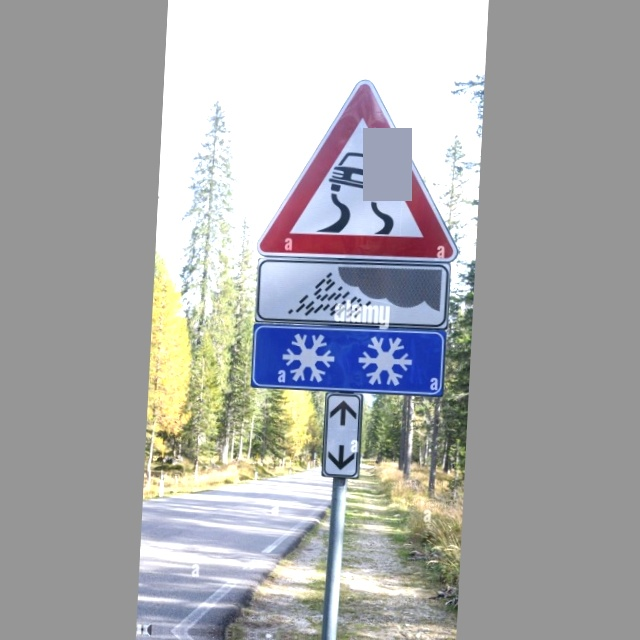Slippery_Road: (265, 78, 456, 256)
